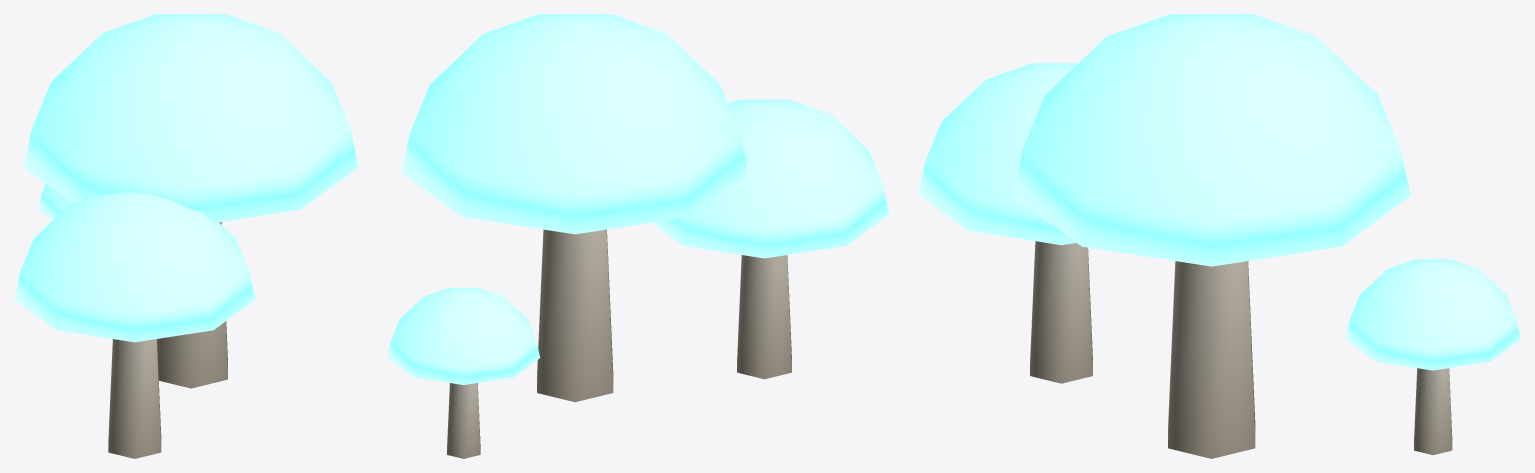
File: mushroom_glow.glb
3 views of the same model, side by side, from view 1: azimuth 30°, elevation 25°; view 2: azimuth 150°, elevation 25°; view 3: azimuth 270°, elevation 25° (orthographic). The views are drawn at different scales.
Visible parts, largest first — view 1: mushroom_glow; view 2: mushroom_glow; view 3: mushroom_glow.
Boxes of the visible parts, left/top/right/bottom form: mushroom_glow: left=14, top=14, right=358, bottom=458; mushroom_glow: left=387, top=14, right=889, bottom=458; mushroom_glow: left=918, top=14, right=1520, bottom=458.
Size of the model in its own units: 0.4975 by 0.45 by 0.5962.
